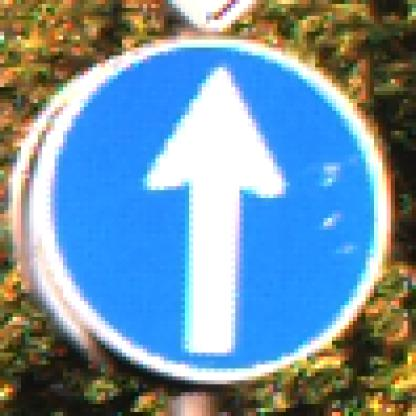AheadOnly: (39, 37, 383, 381)
